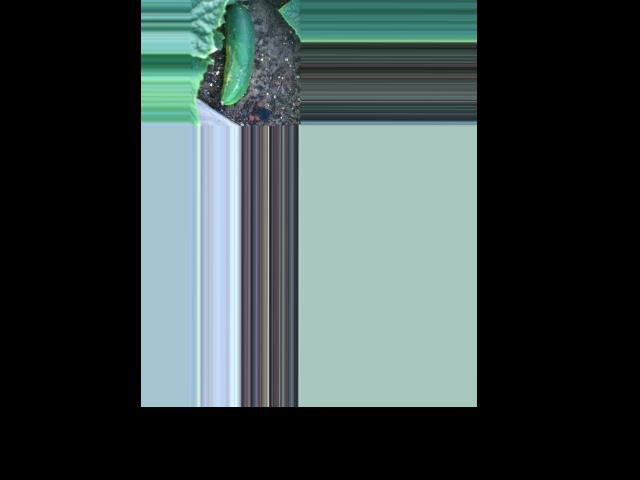cucumber: (220, 5, 254, 105)
